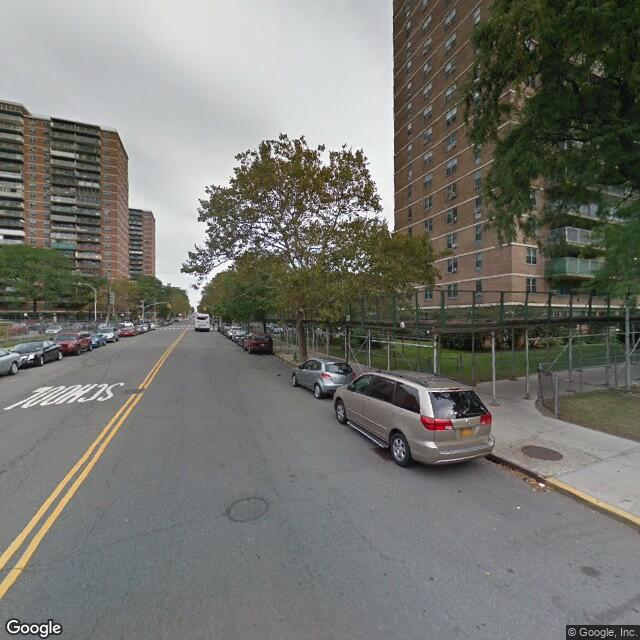litter: (536, 477, 549, 498)
